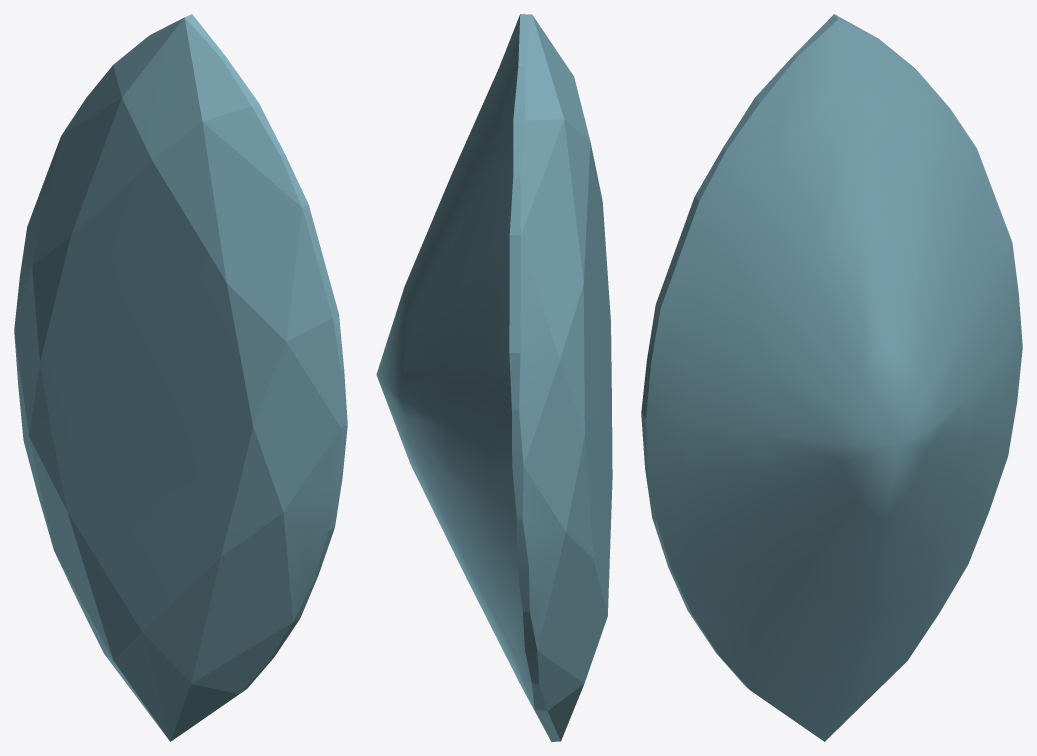
File: BL5_8shapes_Marquise_Classic_Stone.001 2.glb
3 renders of one model, left to right at view 1: azimuth 30°, elevation 25°; view 2: azimuth 150°, elevation 25°; view 3: azimuth 270°, elevation 25°, orthographic. The views are drawn at different scales.
Visible parts, largest first — view 1: BL5_8shapes_Marquise_Classic_Stone.001; view 2: BL5_8shapes_Marquise_Classic_Stone.001; view 3: BL5_8shapes_Marquise_Classic_Stone.001.
Boxes of the visible parts, bbox=[...] form: BL5_8shapes_Marquise_Classic_Stone.001: bbox=[14, 14, 347, 741]; BL5_8shapes_Marquise_Classic_Stone.001: bbox=[376, 14, 612, 741]; BL5_8shapes_Marquise_Classic_Stone.001: bbox=[641, 14, 1022, 741].
Size of the model in its own units: 0.2033 by 0.6321 by 0.2974.
